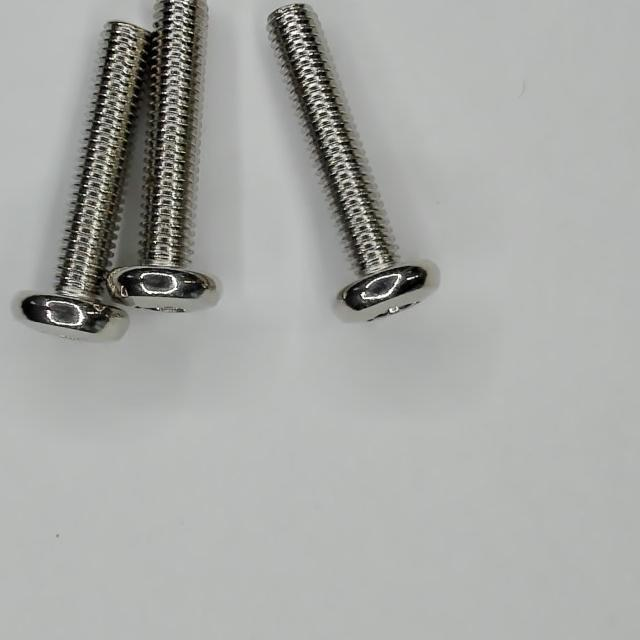Screw: (269, 4, 434, 320), (21, 21, 149, 334), (107, 0, 218, 312)
